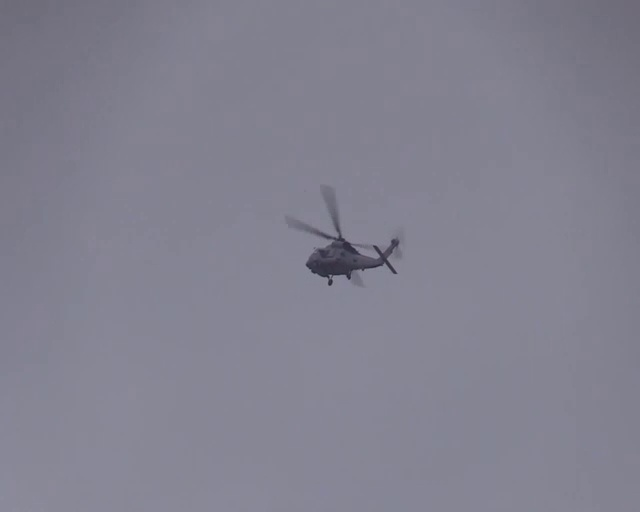HELICOPTER: (283, 184, 401, 287)
